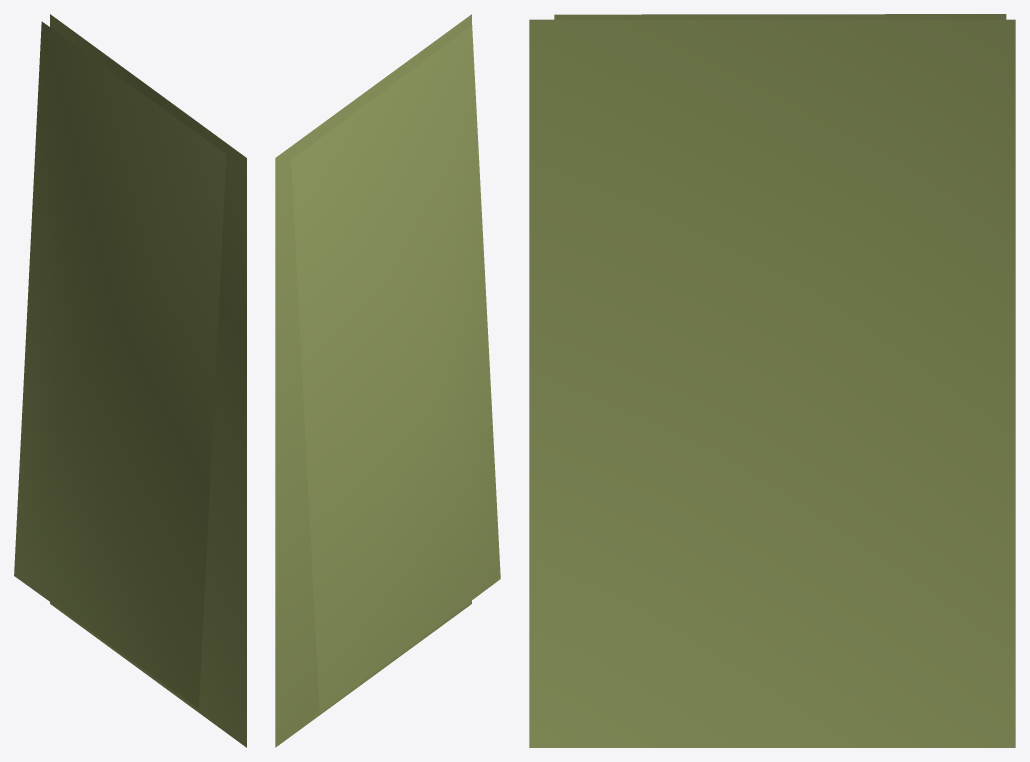
Rendered from cmc_moss.fbx.
The picture shows the model from 3 angles, left to right: view 1: azimuth 30°, elevation 25°; view 2: azimuth 150°, elevation 25°; view 3: azimuth 270°, elevation 25°; orthographic projection. The views are drawn at different scales.
Parts seen in each view (by area): view 1: hanging_moss_top, hanging_moss_01; view 2: hanging_moss_top, hanging_moss_01; view 3: hanging_moss_01, hanging_moss_top.
Boxes of the visible parts, x1,y1,x2,y2 form: hanging_moss_top: (14, 21, 226, 708); hanging_moss_01: (50, 14, 246, 747); hanging_moss_top: (291, 25, 500, 713); hanging_moss_01: (275, 14, 471, 747); hanging_moss_01: (529, 19, 1015, 747); hanging_moss_top: (554, 14, 1006, 19).
Bounding box in the file's own units: 0.0762 × 0.6566 × 0.3971.
